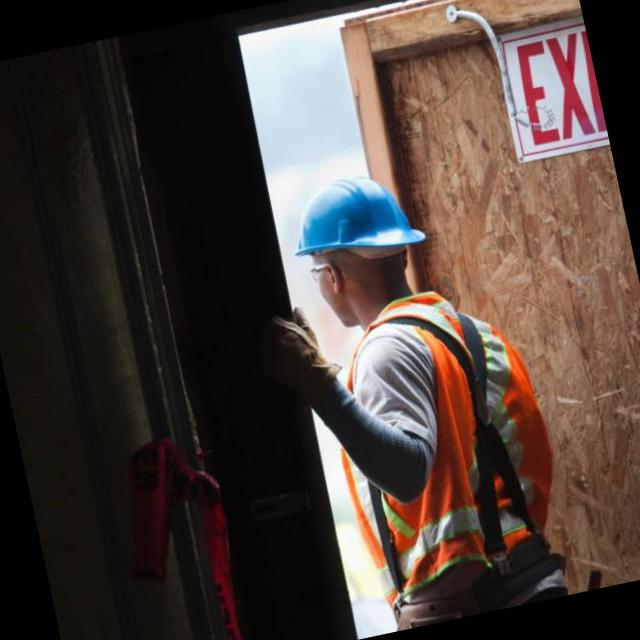Gloves: (244, 296, 344, 414)
